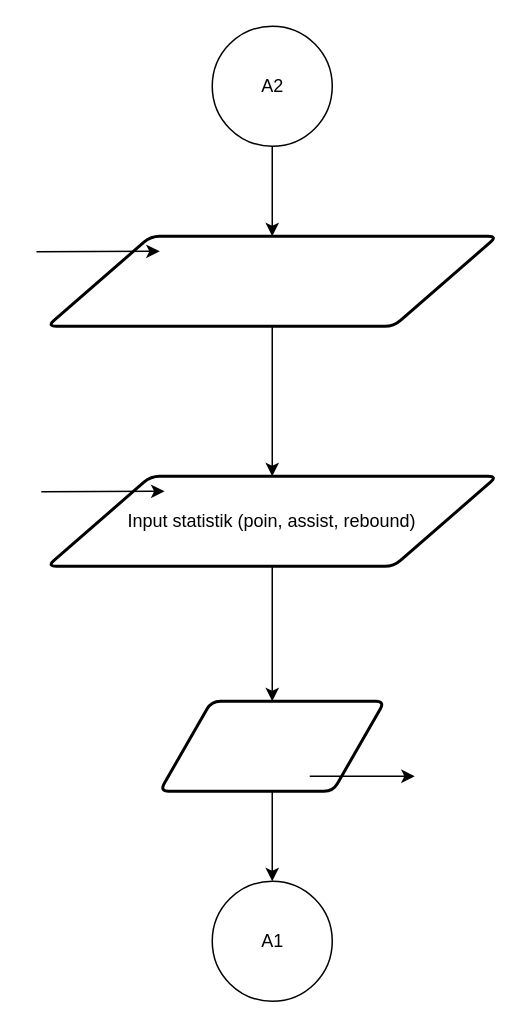
This 525x1028 diagram has some shape labels left out. Here are the shapes that lost their labels. From the top down, the centre of each, then its label:
At (x=271, y=280): "Input Nama, Posisi, dan Tim Pemain".
At (x=272, y=745): "Data Ditambahkam".
